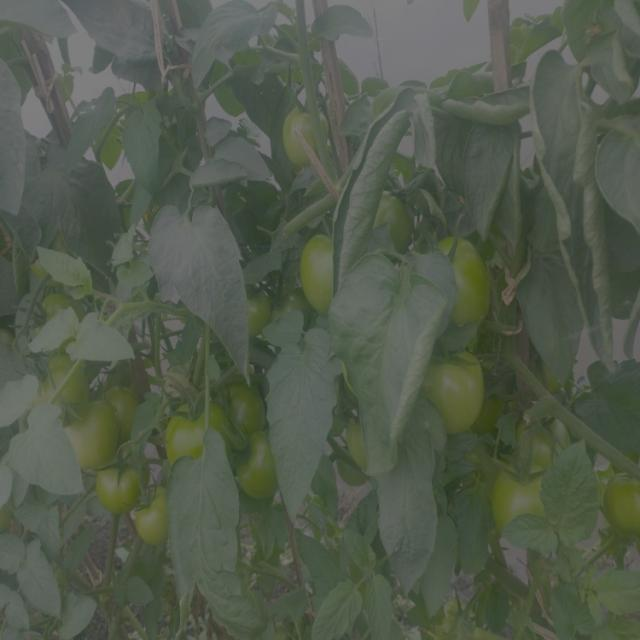tomato: (491, 468, 566, 551), (427, 236, 495, 321), (422, 352, 491, 430), (233, 393, 283, 499), (67, 406, 142, 467), (104, 474, 172, 539), (164, 403, 227, 465), (303, 236, 350, 309), (364, 192, 414, 254), (40, 357, 95, 402), (520, 419, 578, 461), (283, 106, 324, 164), (607, 467, 640, 537), (237, 288, 277, 331), (33, 292, 79, 325), (350, 424, 371, 475)
